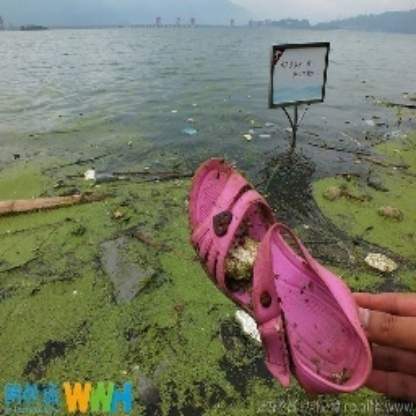plastic-garbage: (187, 157, 375, 398)
